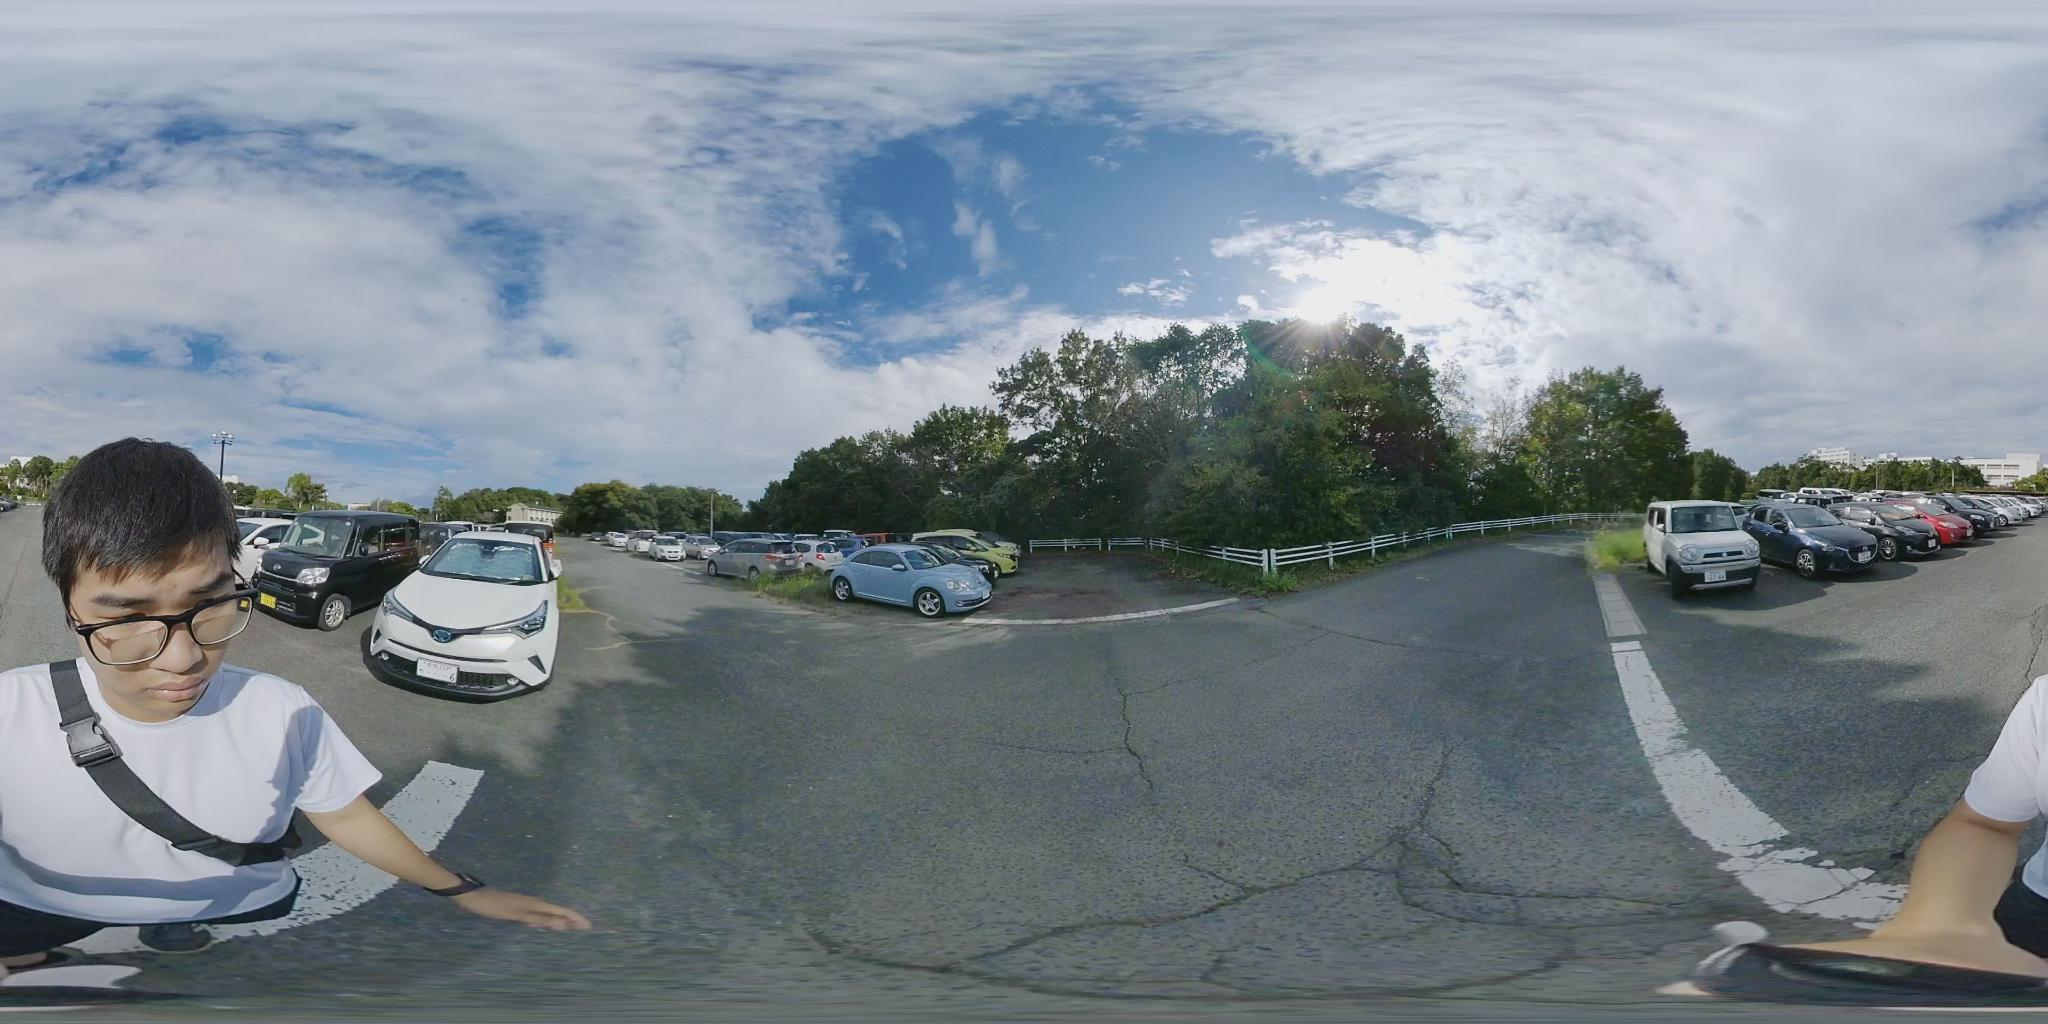car: (364, 528, 566, 699), (248, 509, 438, 630), (828, 545, 1002, 619), (1648, 499, 1766, 593), (1745, 503, 1890, 576), (1829, 499, 1947, 559), (707, 536, 858, 575), (913, 532, 1024, 573), (1883, 492, 1970, 543), (640, 536, 709, 563), (600, 533, 654, 555), (499, 524, 559, 542)
